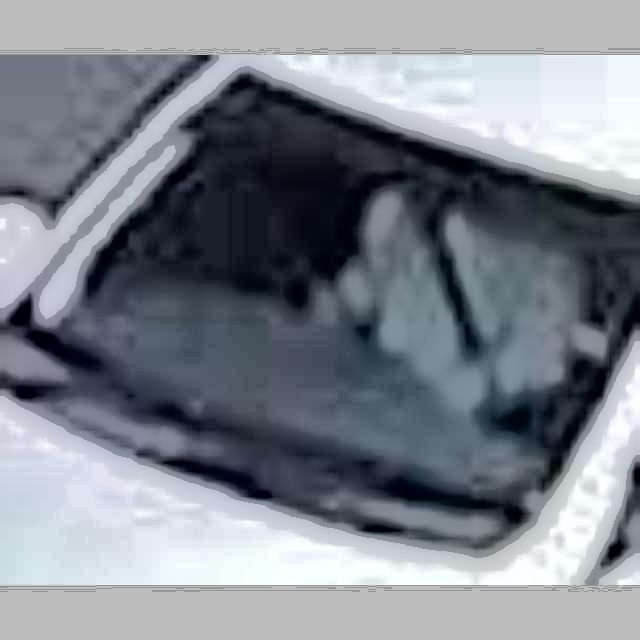pakai: (303, 122, 598, 434)
